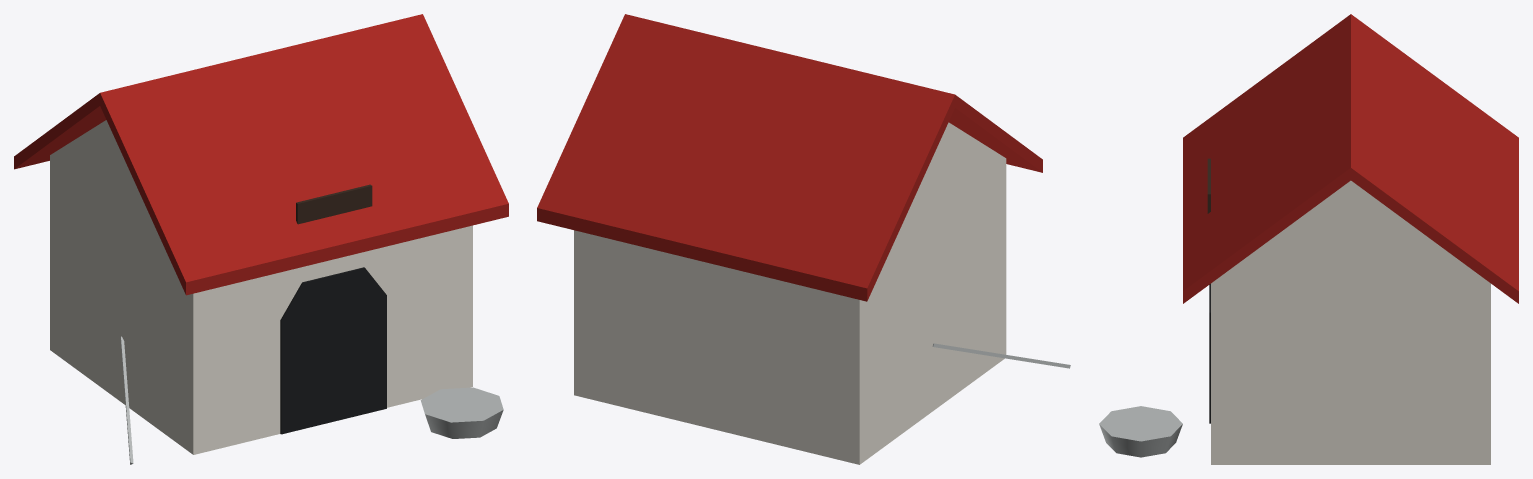
The model's file is doghouse.glb.
3 views of the same model, side by side, from view 1: azimuth 30°, elevation 25°; view 2: azimuth 150°, elevation 25°; view 3: azimuth 270°, elevation 25° (orthographic). The views are drawn at different scales.
Parts seen in each view (by area): view 1: doghouse; view 2: doghouse; view 3: doghouse.
Boxes of the visible parts, bbox=[...] form: doghouse: bbox=[14, 14, 508, 464]; doghouse: bbox=[537, 14, 1070, 464]; doghouse: bbox=[1099, 14, 1518, 464].
Bounding box in the file's own units: 1.17 × 0.97 × 1.2.
Materials: 1 (1 with a texture image).
